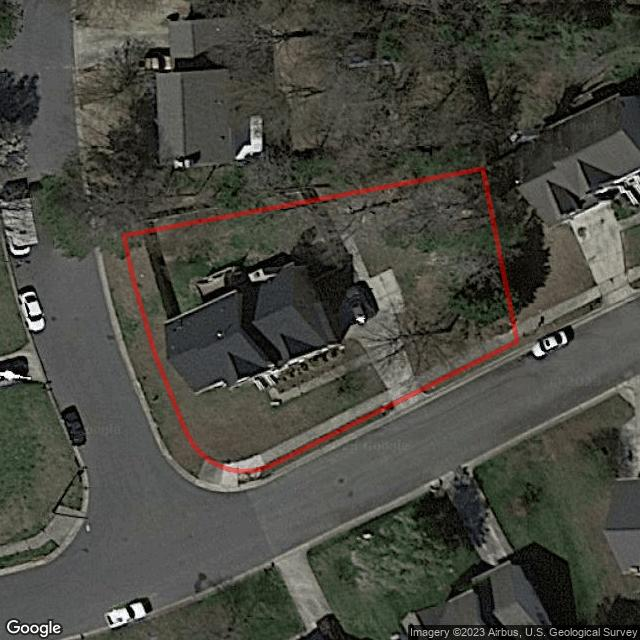Driveway: (261, 238, 414, 403)
Extra Driveway: (396, 394, 430, 416)
Extra Lawn: (102, 244, 200, 475)
House: (160, 267, 337, 402)
Sidewalk: (260, 393, 390, 461), (419, 329, 513, 383)
